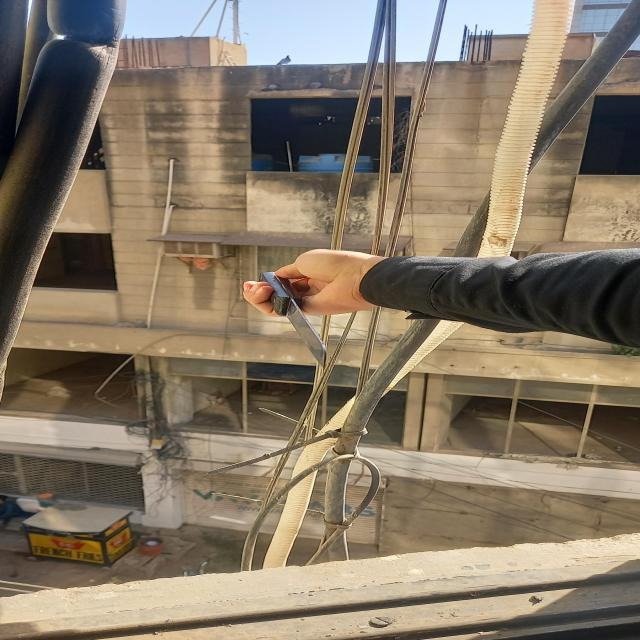weapon: (256, 271, 332, 367)
